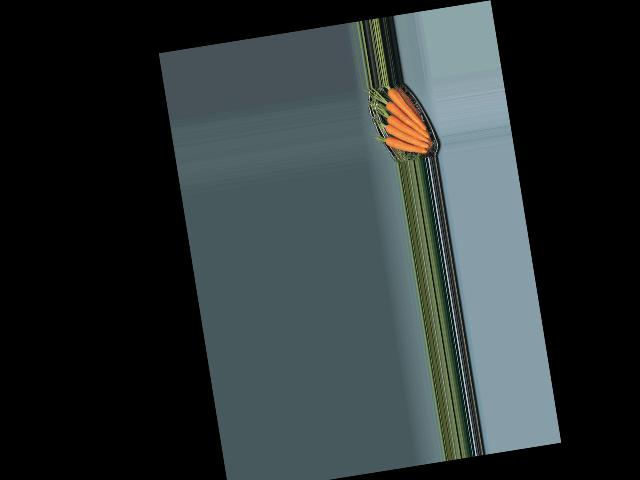carrot: (385, 134, 428, 160)
